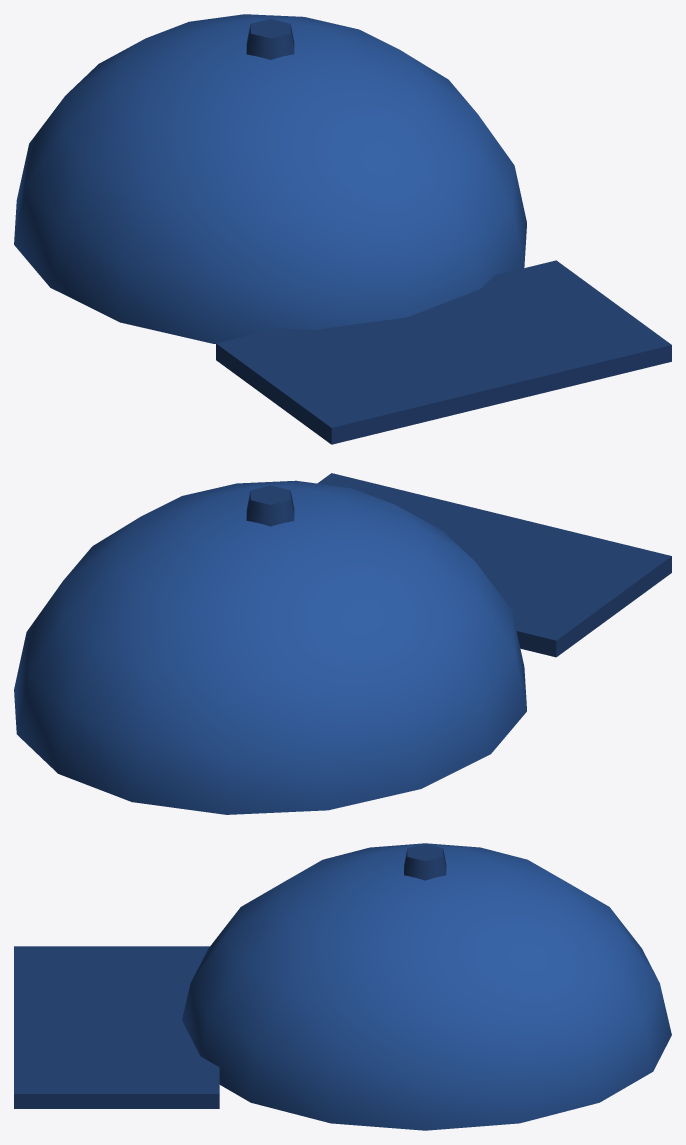
The model's file is cap.glb.
The picture shows the model from 3 angles, top to bottom: view 1: azimuth 30°, elevation 25°; view 2: azimuth 150°, elevation 25°; view 3: azimuth 270°, elevation 25°; orthographic projection. The views are drawn at different scales.
Parts seen in each view (by area): view 1: cap; view 2: cap; view 3: cap.
Part boxes in pixels (x1,y1,x2,y2): cap: [14, 14, 671, 444]; cap: [14, 473, 671, 814]; cap: [14, 843, 671, 1130].
Size of the model in its own units: 0.22 by 0.098 by 0.32.
